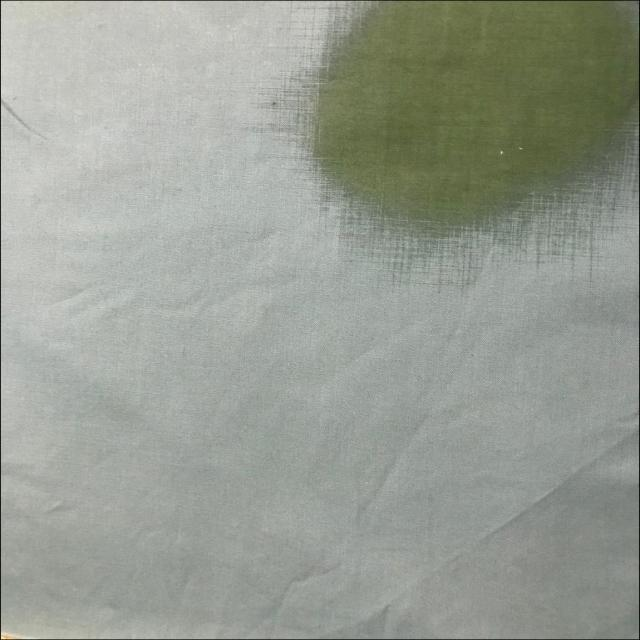Stain: (315, 1, 638, 226)
